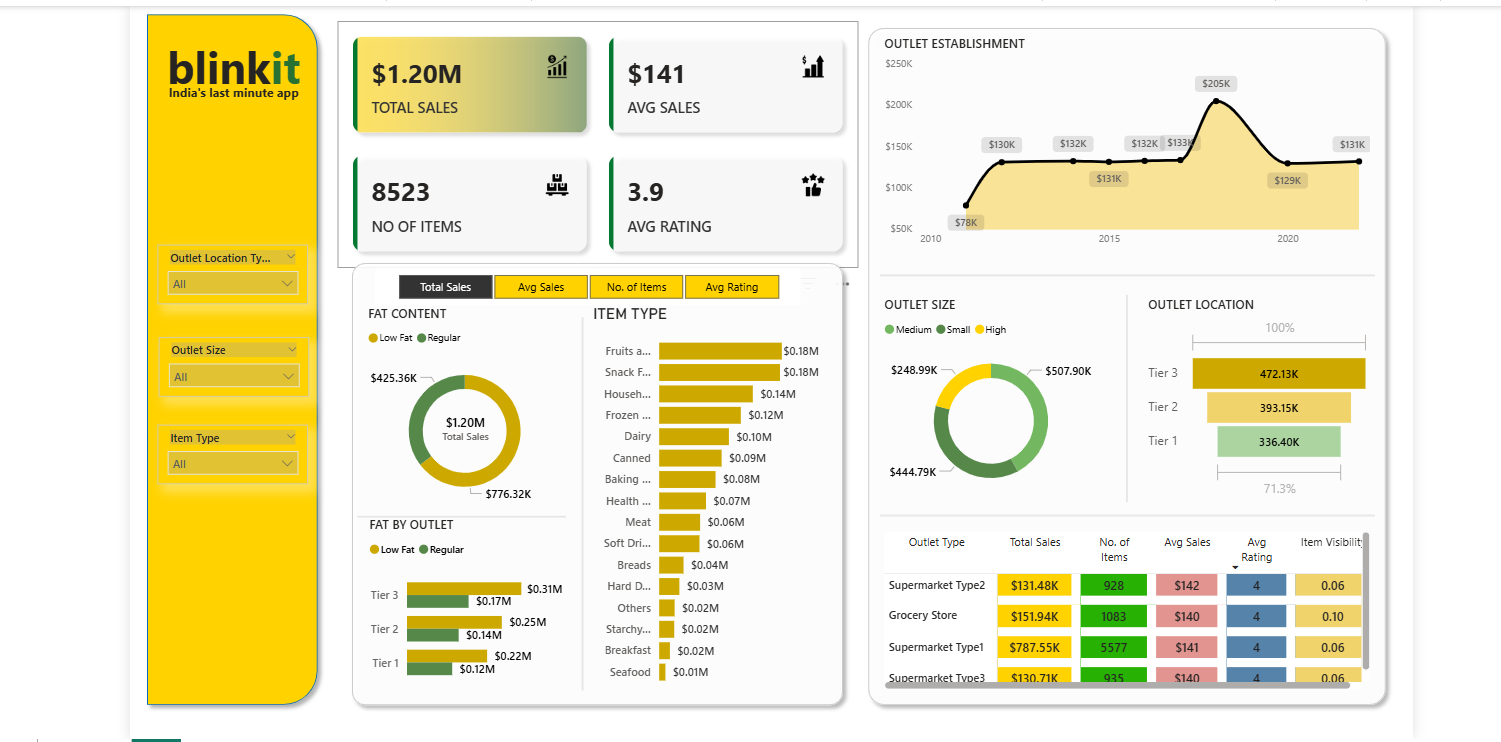

Layout of this report page (visuals, bound fields, positions):
{"tool":"powerbi","page":{"name":"Page 1","canvas":[1400,800],"ordinal":0},"visuals":[{"type":"shape","box":[9.6,0,204.1,771.2],"z":0},{"type":"textbox","box":[30,28.6,166.3,79.1],"z":1000},{"type":"textbox","box":[30,80.4,166.3,27.3],"z":2000},{"type":"cardVisual","fields":{"Data":["BlinkIT Grocery Data.Total Sales","BlinkIT Grocery Data.Avg Sales","BlinkIT Grocery Data.No. of Items","BlinkIT Grocery Data.Avg Rating"]},"box":[225.7,15.8,569.7,269.8],"z":3000},{"type":"shape","box":[233.1,271.3,553.5,500.3],"z":4000},{"type":"donutChart","title":"FAT CONTENT","fields":{"Y":["BlinkIT Grocery Data.Total Sales"],"Category":["BlinkIT Grocery Data.Item Fat Content"]},"box":[254.8,326,220.5,230.1],"z":5000},{"type":"slicer","fields":{"Values":["Metrics.Metrics"]},"box":[267.1,286.3,464.4,39.7],"z":6000},{"type":"cardVisual","fields":{"Data":["BlinkIT Grocery Data.Total Sales"]},"box":[320.5,428.8,91.8,61.6],"z":7000},{"type":"clusteredBarChart","title":"FAT BY OUTLET","fields":{"Y":["BlinkIT Grocery Data.Total Sales"],"Category":["BlinkIT Grocery Data.Outlet Location Type"],"Series":["BlinkIT Grocery Data.Item Fat Content"]},"box":[256.2,556.2,220.5,194.5],"z":8000},{"type":"shape","box":[247.9,543.8,227.4,26],"z":9000},{"type":"shape","box":[486.3,339.7,13.7,406.8],"z":10000},{"type":"barChart","title":"ITEM TYPE","fields":{"Y":["BlinkIT Grocery Data.Total Sales"],"Category":["BlinkIT Grocery Data.Item Type"]},"box":[500,326,256.2,424.7],"z":11000},{"type":"shape","box":[795.9,15.1,582.2,756.2],"z":12000},{"type":"lineChart","title":"OUTLET ESTABLISHMENT","fields":{"Category":["BlinkIT Grocery Data.Outlet Establishment Year"],"Y":["BlinkIT Grocery Data.Total Sales"]},"box":[817.8,31.5,539.7,239.7],"z":13000},{"type":"shape","box":[817.8,280.8,539.7,26],"z":14000},{"type":"pivotTable","title":"OUTLET SIZE","fields":{"Values":["BlinkIT Grocery Data.Total Sales","BlinkIT Grocery Data.No. of Items","BlinkIT Grocery Data.Avg Sales","BlinkIT Grocery Data.Avg Rating","Avg(BlinkIT Grocery Data.Item Visibility)"],"Rows":["BlinkIT Grocery Data.Outlet Type"]},"box":[817.8,568.5,539.7,182.2],"z":15000},{"type":"shape","box":[1080.8,315.1,12.3,226],"z":16000},{"type":"funnel","title":"OUTLET LOCATION","fields":{"Y":["Sum(BlinkIT Grocery Data.Sales)"],"Category":["BlinkIT Grocery Data.Outlet Location Type"]},"box":[1105.5,316.4,252.1,226],"z":17000},{"type":"shape","box":[817.8,542.5,539.7,26],"z":18000},{"type":"donutChart","title":"OUTLET SIZE","fields":{"Y":["BlinkIT Grocery Data.Total Sales"],"Category":["BlinkIT Grocery Data.Outlet Size"]},"box":[817.8,316.4,242.5,227.4],"z":19000},{"type":"slicer","fields":{"Values":["BlinkIT Grocery Data.Outlet Location Type"]},"box":[30,260.4,164.1,64.7],"z":20000},{"type":"slicer","fields":{"Values":["BlinkIT Grocery Data.Outlet Size"]},"box":[31.6,361.4,164.1,64.7],"z":21000},{"type":"slicer","fields":{"Values":["BlinkIT Grocery Data.Item Type"]},"box":[30,456,164.1,64.7],"z":22000}]}

Visuals, with their boxes on the page's 1400x800 design canvas (x1, y1, x2, y2). These are canvas units, not pixel positions in the 1501x742 screenshot, which may show the page scaled, cropped or inside an application window:
shape: 10,0,214,771
textbox: 30,29,196,108
textbox: 30,80,196,108
cardVisual - BlinkIT Grocery Data.Total Sales x BlinkIT Grocery Data.Avg Sales: 226,16,795,286
shape: 233,271,787,772
"FAT CONTENT" donutChart: 255,326,475,556
slicer - Metrics.Metrics: 267,286,732,326
cardVisual - BlinkIT Grocery Data.Total Sales: 320,429,412,490
"FAT BY OUTLET" clusteredBarChart: 256,556,477,751
shape: 248,544,475,570
shape: 486,340,500,746
"ITEM TYPE" barChart: 500,326,756,751
shape: 796,15,1378,771
"OUTLET ESTABLISHMENT" lineChart: 818,32,1358,271
shape: 818,281,1358,307
"OUTLET SIZE" pivotTable: 818,568,1358,751
shape: 1081,315,1093,541
"OUTLET LOCATION" funnel: 1106,316,1358,542
shape: 818,542,1358,568
"OUTLET SIZE" donutChart: 818,316,1060,544
slicer - BlinkIT Grocery Data.Outlet Location Type: 30,260,194,325
slicer - BlinkIT Grocery Data.Outlet Size: 32,361,196,426
slicer - BlinkIT Grocery Data.Item Type: 30,456,194,521
